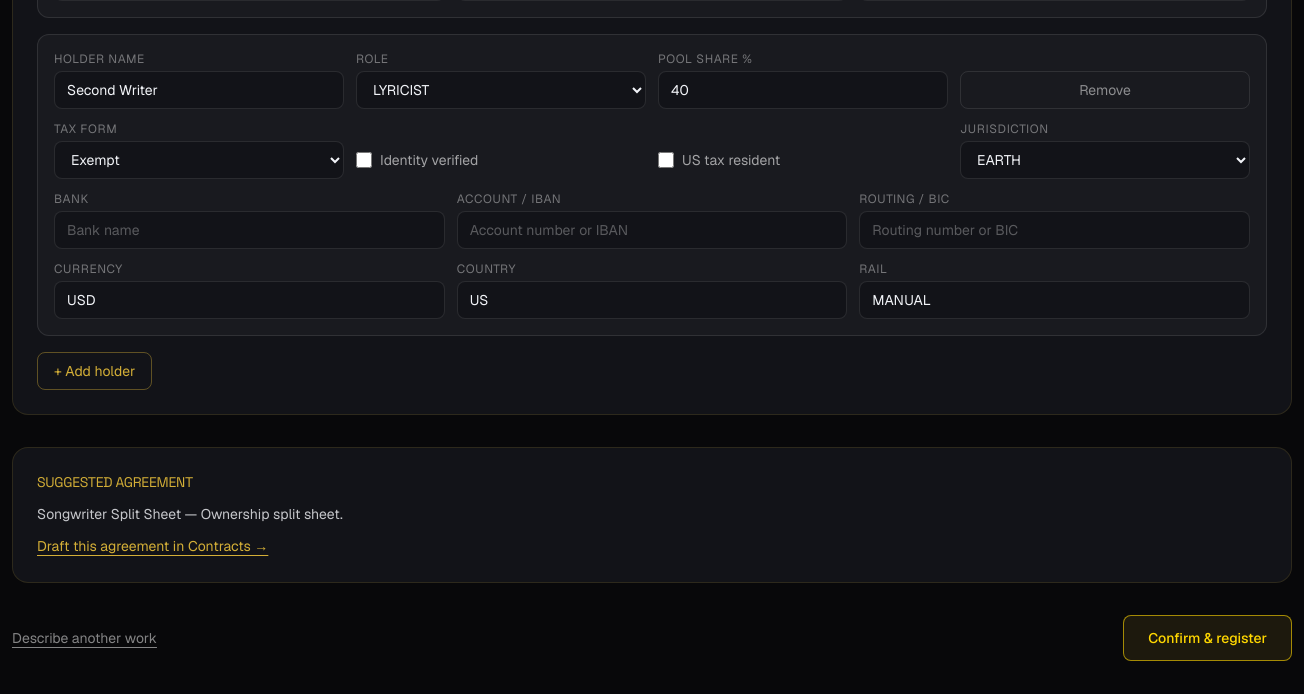
Test: DraftReview › renders the action error strip on a failed registration
(page scrolled)
Click the button with test id "agent-confirm". click: (1208, 638)
box: top-left (1123, 615), bottom-right (1292, 661)
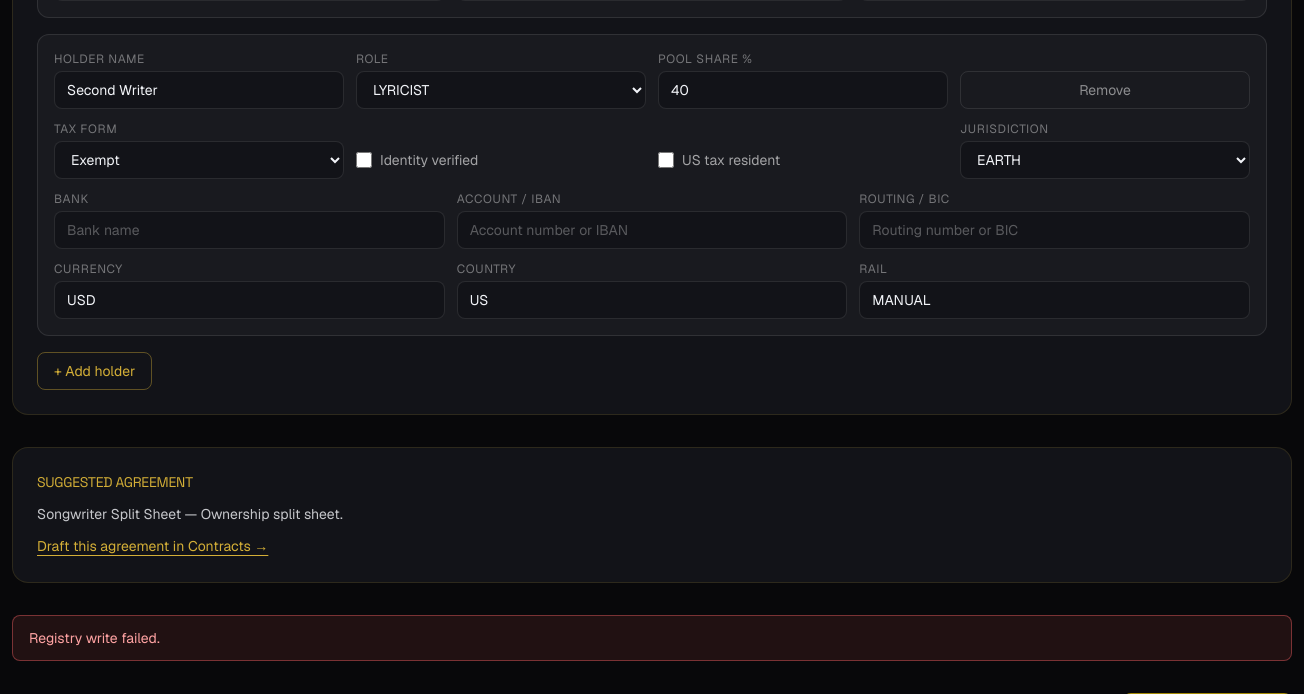
Check: the text "Registry write failed." is shown, box top-left (12, 615), bottom-right (1292, 661)
